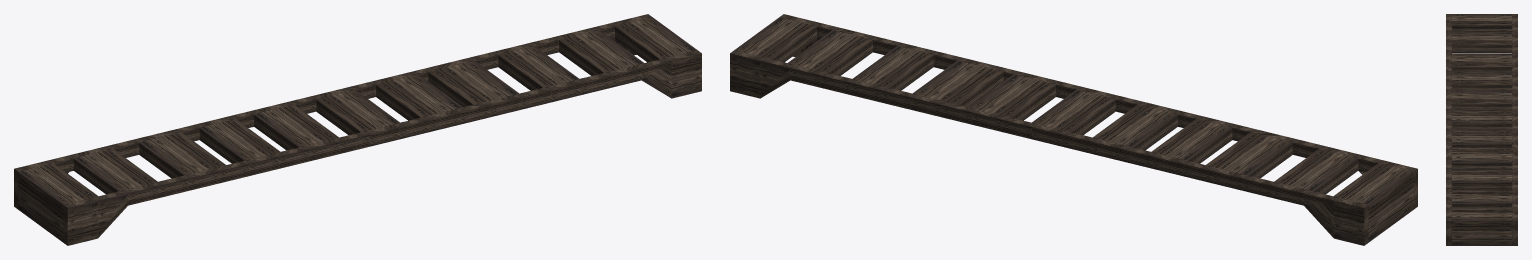
Rendered from Trapped_Bridge.FBX.
3 renders of one model, left to right at view 1: azimuth 30°, elevation 25°; view 2: azimuth 150°, elevation 25°; view 3: azimuth 270°, elevation 25°, orthographic. The views are drawn at different scales.
Visible parts, largest first — view 1: Bridge; view 2: Bridge; view 3: Bridge.
Boxes of the visible parts, x1,y1,x2,y2 form: Bridge: (14,14,701,245); Bridge: (730,14,1417,245); Bridge: (1446,14,1517,245).
Bounding box in the file's own units: 2548 × 146 × 374.
